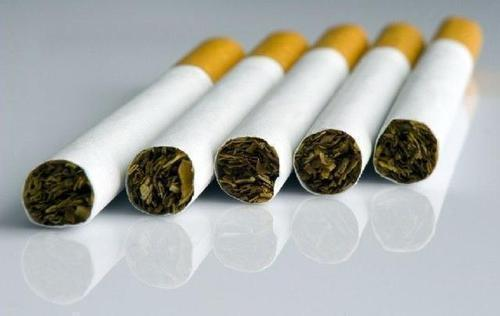smoke: (22, 37, 245, 228), (126, 30, 312, 216), (215, 24, 371, 205), (293, 21, 426, 197), (373, 16, 483, 185)
